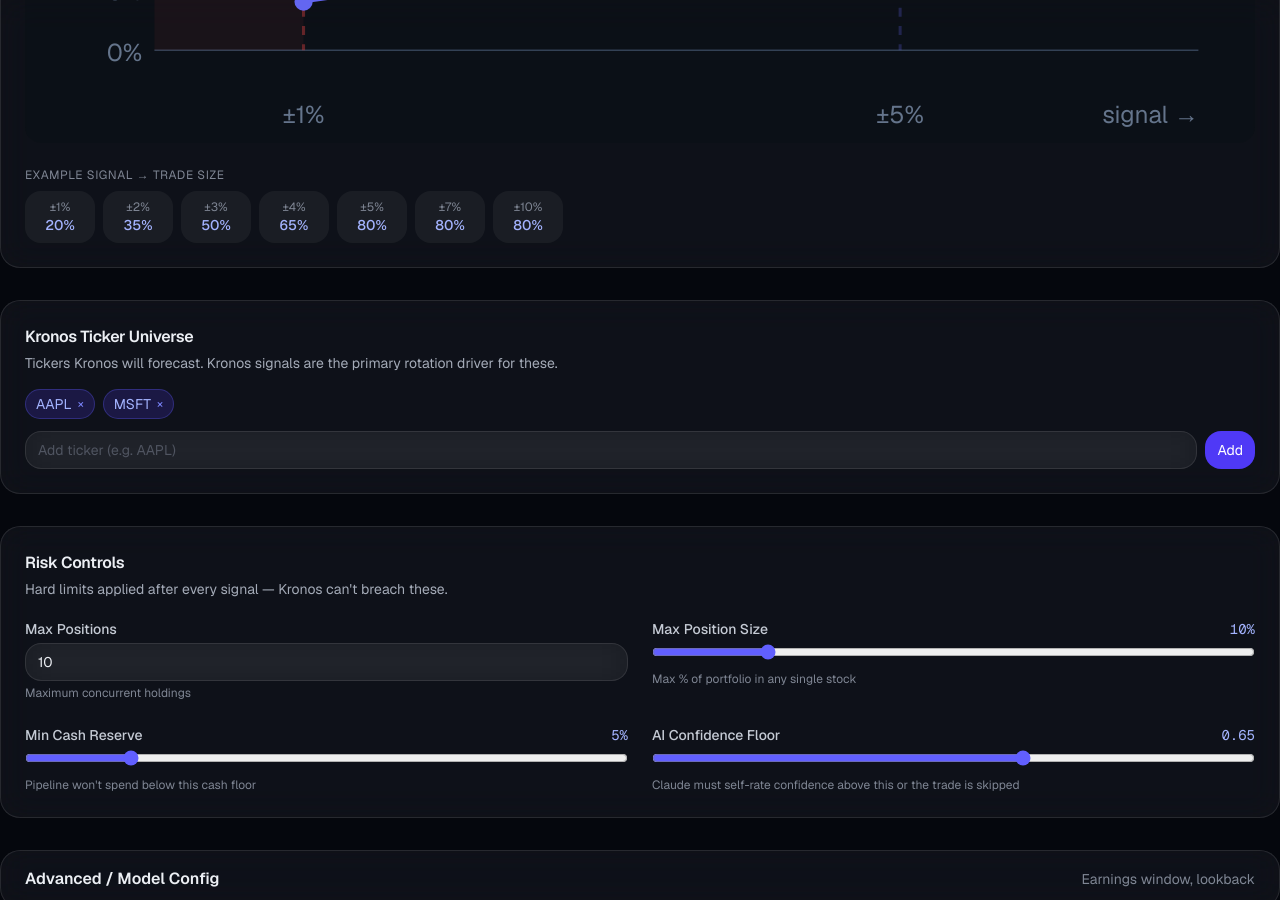
Scenario: KronosTunePanel › adding a ticker via Enter key appends to list
(page scrolled)
Type "TSLA" into the field with placeholder "Add ticker (e.g. AAPL)".
click(611, 450); type("TSLA")  # box [25, 431, 1197, 469]
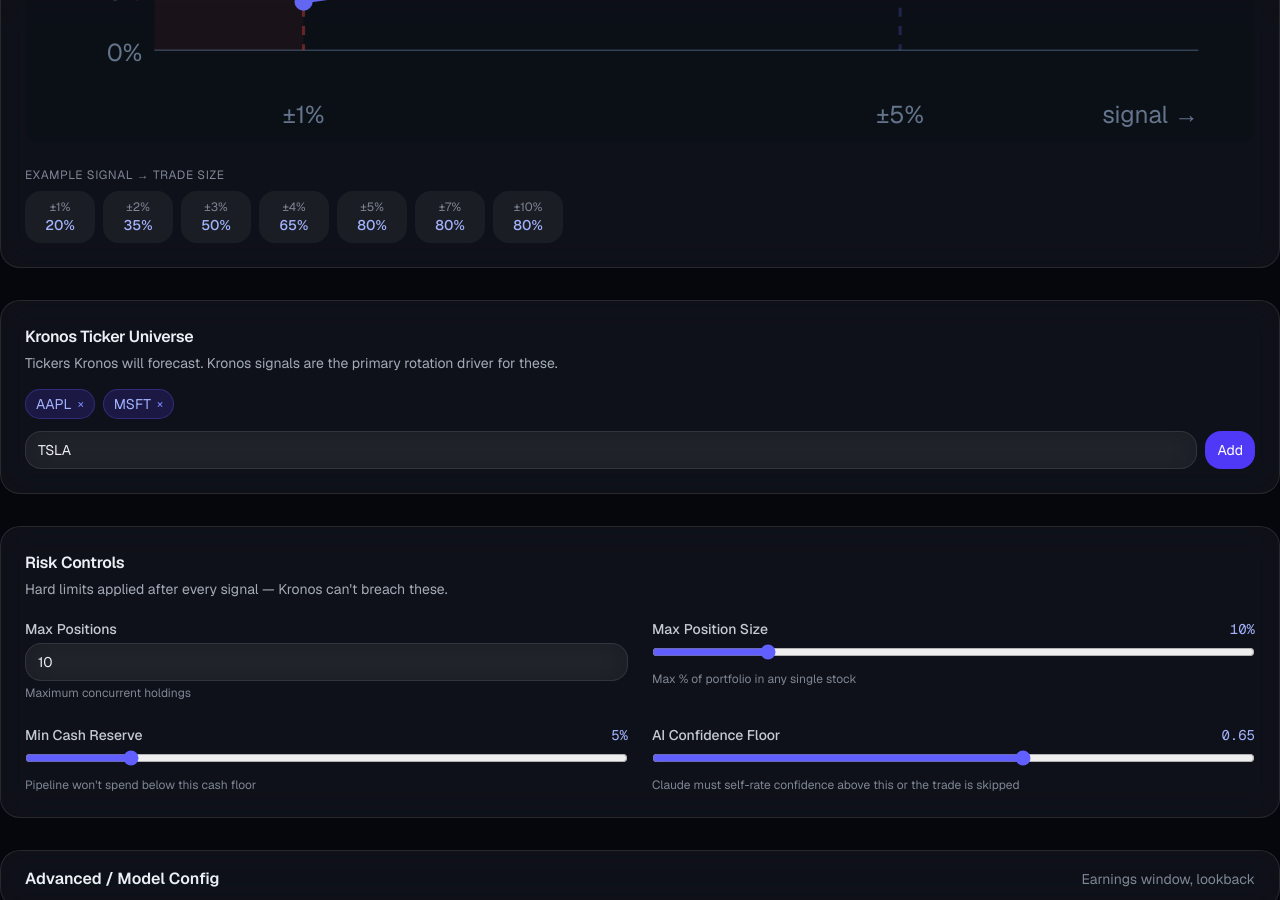
Press Enter in the field with placeholder "Add ticker (e.g. AAPL)", box [25, 431, 1197, 469]
(page scrolled)
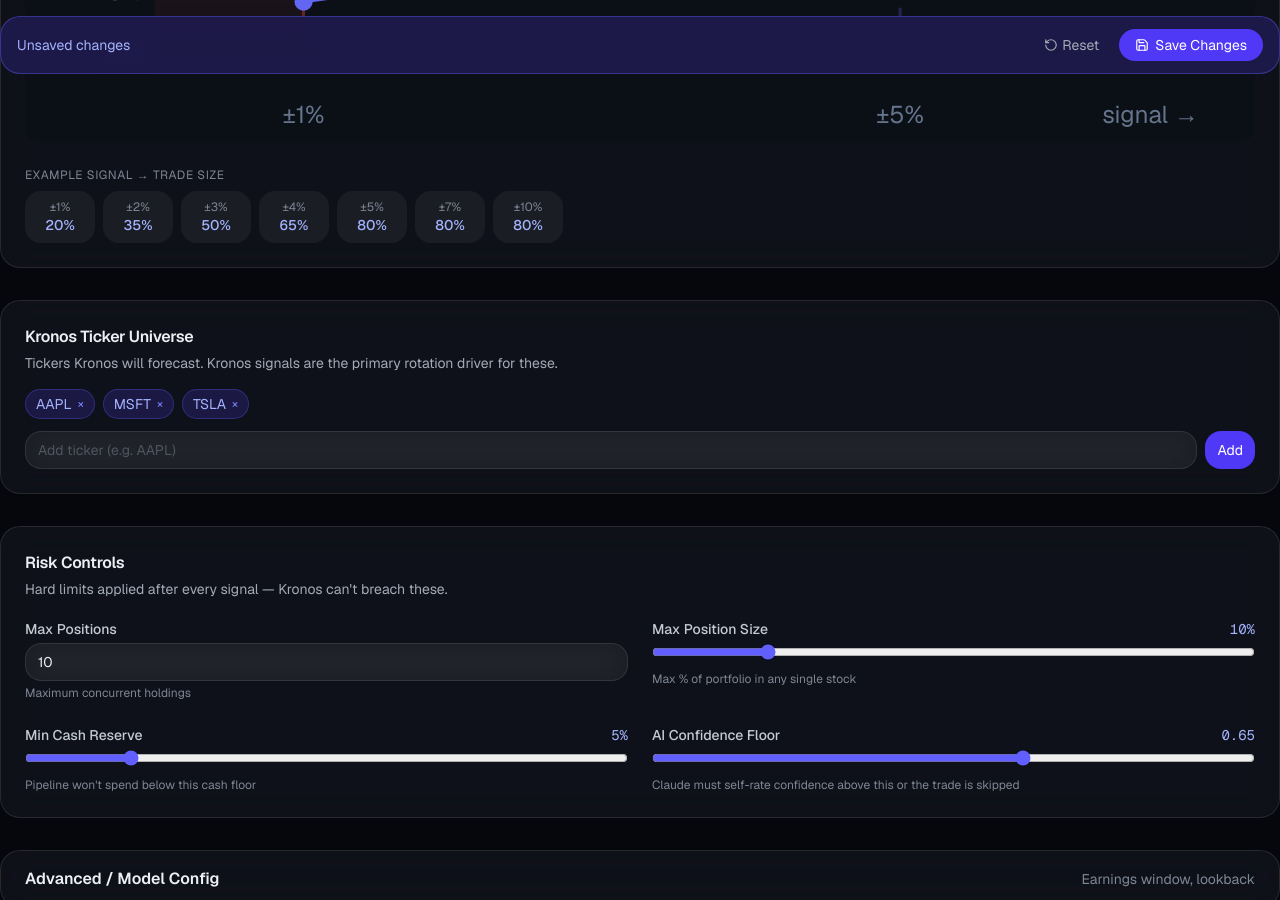
Expected: the text "TSLA" is shown, [193, 395, 226, 413]
